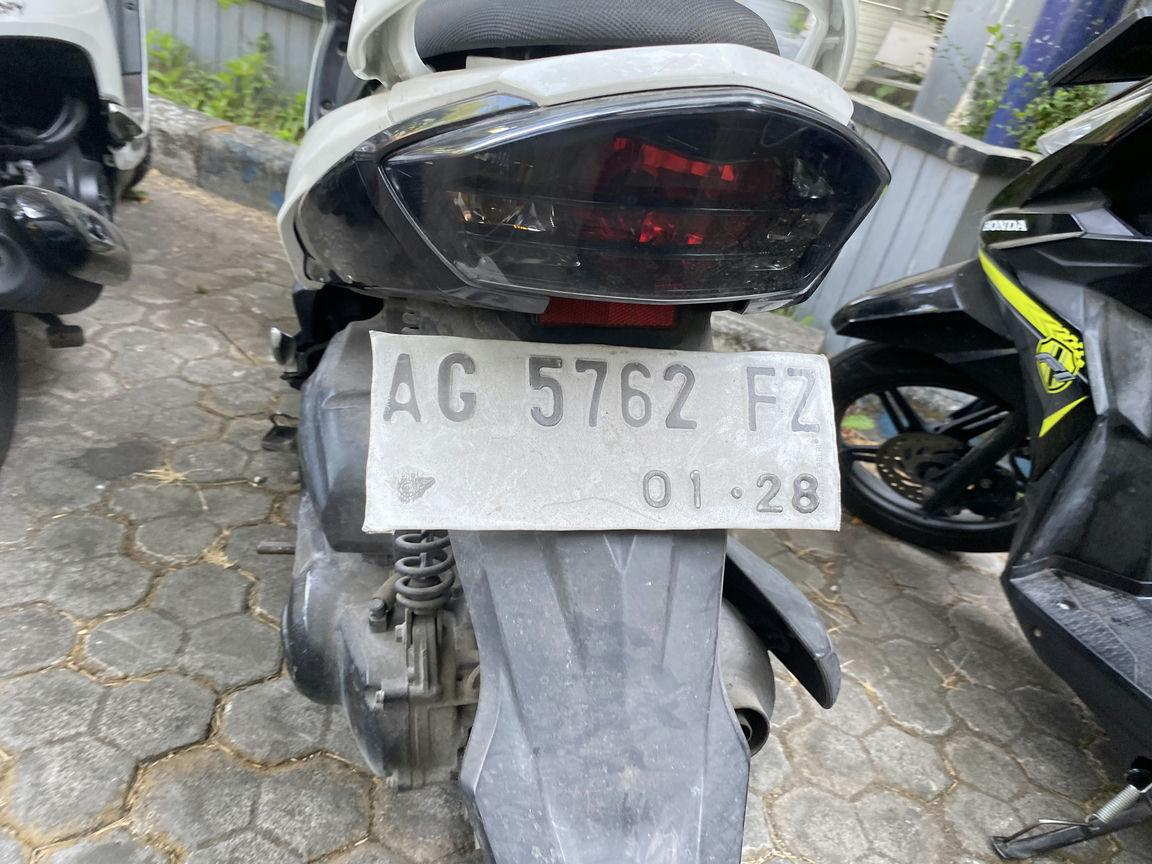plat: (362, 331, 842, 533)
